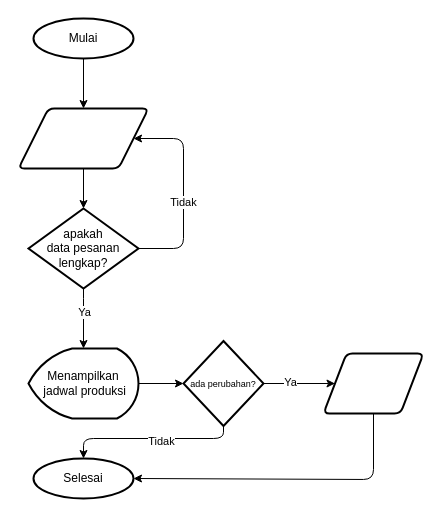
The diagram is 441 pixels wide and 516 high, and some of its shapes have lost their labels. Here are the shapes that lost their labels. From the top down, the centre of each, then its label:
At point 83,138: "Memasukkan data pesanan".
At point 373,383: "Edit jadwal produksi".
